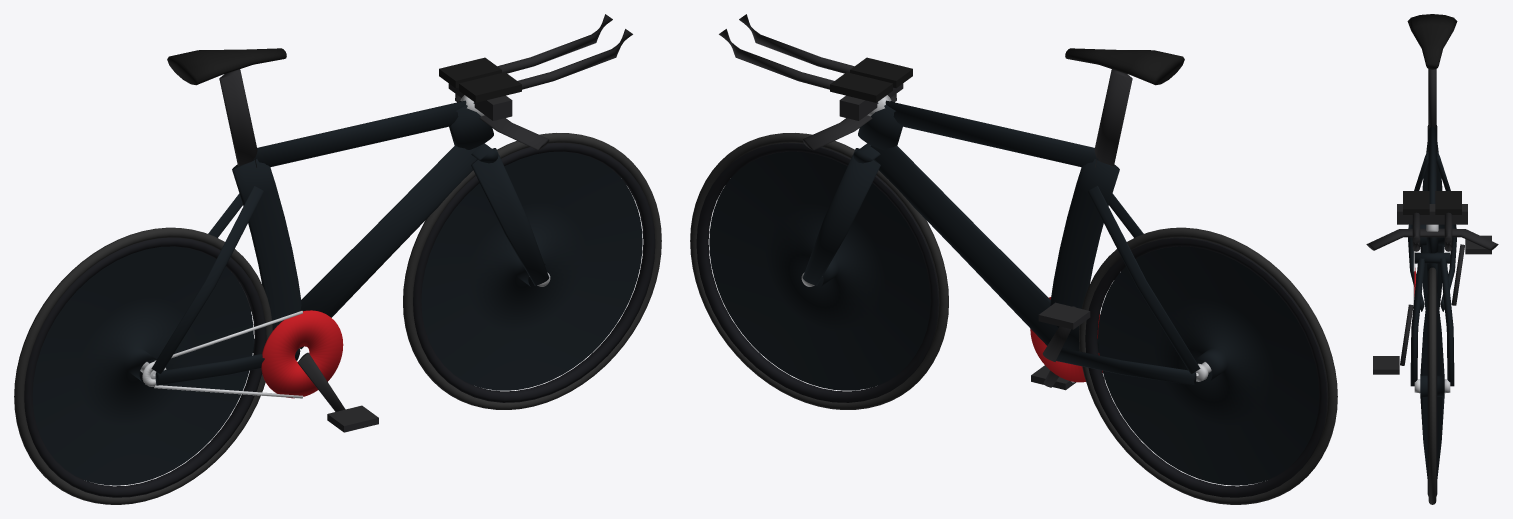
Rendered from bike.glb.
3 renders of one model, left to right at view 1: azimuth 30°, elevation 25°; view 2: azimuth 150°, elevation 25°; view 3: azimuth 270°, elevation 25°, orthographic. The views are drawn at different scales.
Visible parts, largest first — view 1: wheel_front_disc, wheel_rear_disc, wheel_front_rim, wheel_rear_rim, down_tube, wheel_rear_tyre, wheel_front_tyre, seat_tube, chainring, top_tube, fork_l, saddle (+12 smaller); view 2: wheel_rear_disc, wheel_front_disc, wheel_rear_rim, wheel_front_rim, down_tube, wheel_rear_tyre, wheel_front_tyre, seat_tube, top_tube, fork_r, saddle, seatstay_r (+11 smaller); view 3: wheel_front_tyre, wheel_front_disc, saddle, base_bar, fork_l, fork_r, wheel_rear_disc, wheel_front_rim, pad_riser, top_tube, armpad_l, armpad_r (+15 smaller).
Part boxes in pixels (x1,y1,x2,y2): wheel_front_disc: [421, 151, 642, 390]; wheel_rear_disc: [32, 246, 253, 485]; wheel_front_rim: [413, 142, 655, 402]; wheel_rear_rim: [24, 237, 266, 497]; down_tube: [300, 145, 481, 349]; wheel_rear_tyre: [14, 227, 272, 504]; wheel_front_tyre: [403, 133, 661, 409]; seat_tube: [232, 159, 301, 330]; chainring: [261, 310, 343, 398]; top_tube: [253, 100, 466, 167]; fork_l: [471, 148, 549, 285]; saddle: [167, 48, 286, 85]; wheel_rear_disc: [1098, 246, 1319, 485]; wheel_front_disc: [709, 151, 930, 390]; wheel_rear_rim: [1085, 237, 1327, 497]; wheel_front_rim: [696, 142, 938, 402]; down_tube: [870, 145, 1058, 345]; wheel_rear_tyre: [1079, 227, 1337, 504]; wheel_front_tyre: [690, 133, 948, 409]; seat_tube: [1050, 159, 1119, 351]; top_tube: [885, 100, 1098, 167]; fork_r: [802, 148, 880, 285]; saddle: [1065, 48, 1184, 85]; seatstay_r: [1087, 186, 1200, 373]; wheel_front_tyre: [1428, 267, 1436, 504]; wheel_front_disc: [1420, 293, 1444, 478]; saddle: [1407, 14, 1457, 69]; base_bar: [1366, 228, 1498, 250]; fork_l: [1410, 258, 1424, 386]; fork_r: [1440, 258, 1454, 386]; wheel_rear_disc: [1420, 142, 1444, 309]; wheel_front_rim: [1427, 276, 1437, 496]; pad_riser: [1397, 204, 1467, 224]; top_tube: [1428, 126, 1436, 203]; armpad_l: [1403, 191, 1429, 214]; armpad_r: [1435, 191, 1461, 214].
Size of the model in its own units: 1.68 by 1.07 by 0.3714.
